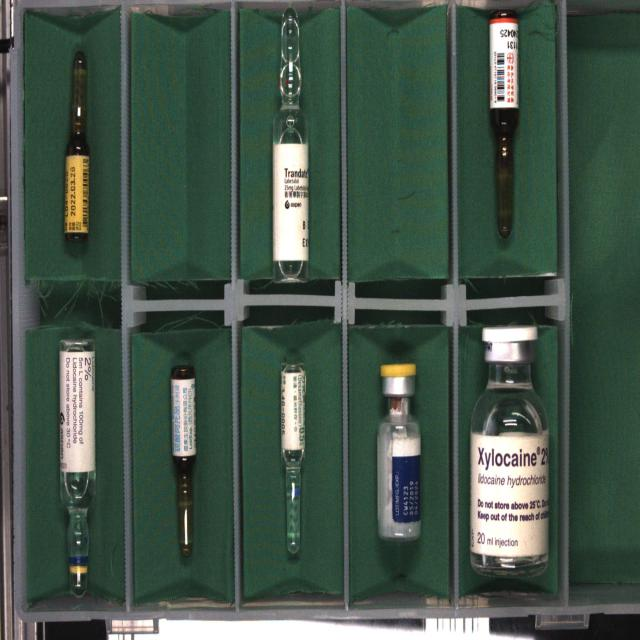Vials: (469, 325, 549, 577), (377, 363, 421, 541)
